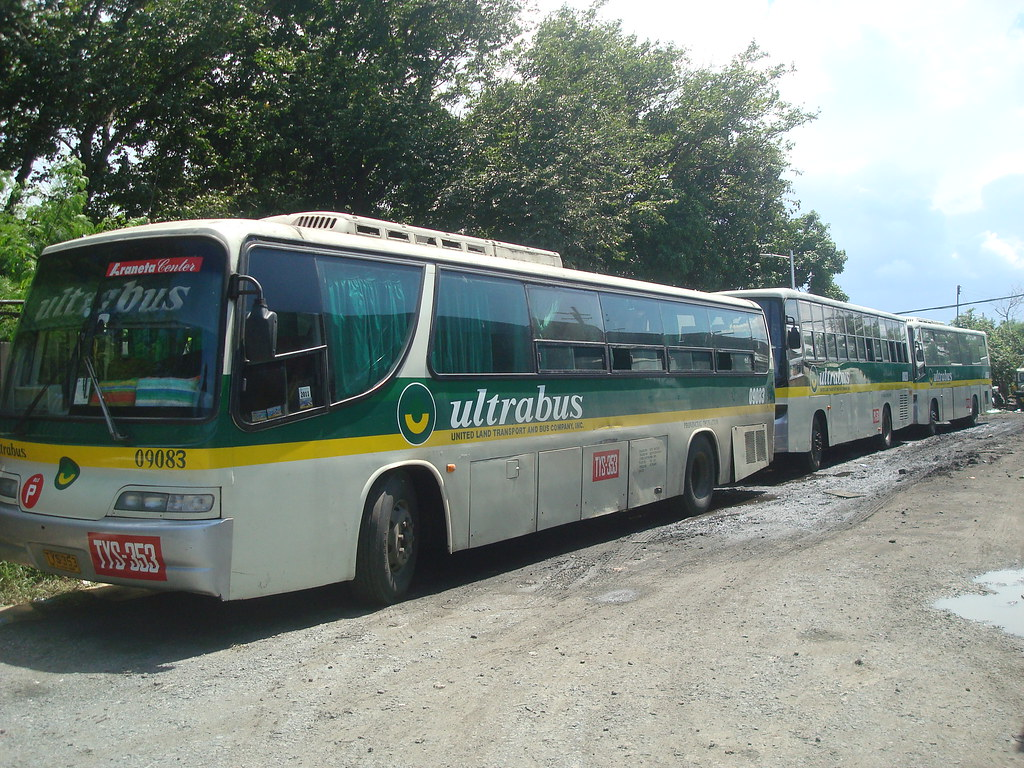bus: (2, 203, 778, 631)
